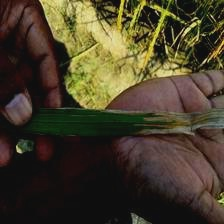Leaf_Blast: (62, 97, 222, 134)
